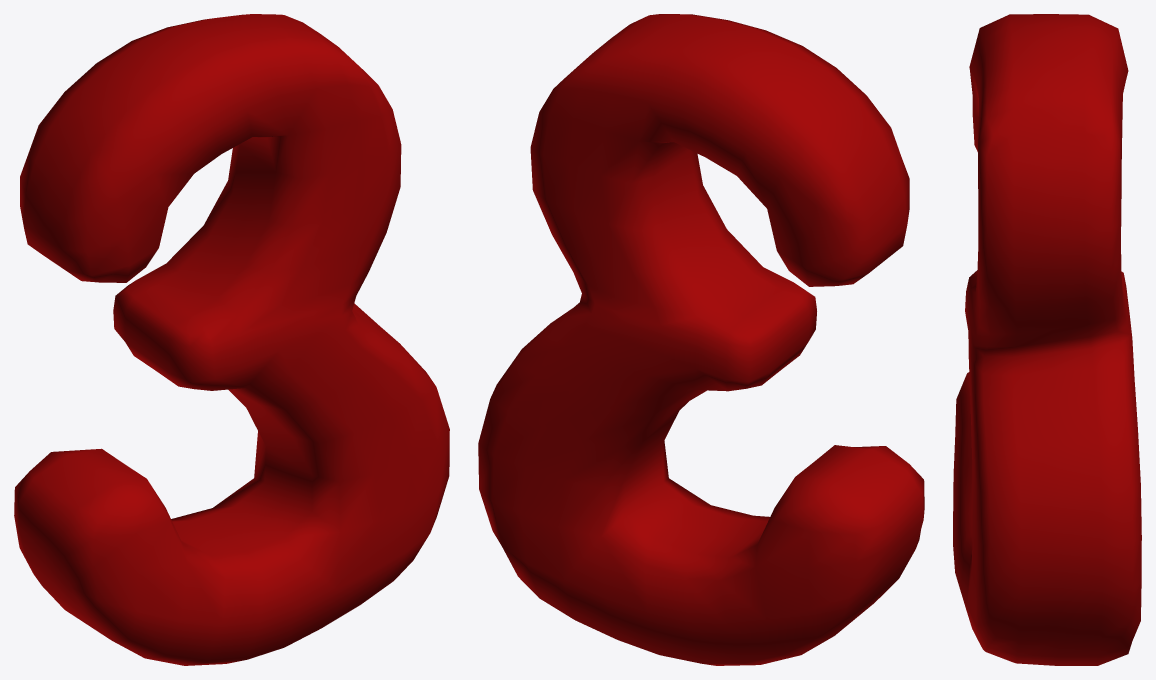
Rendered from mod_no3_v1.fbx.
The picture shows the model from 3 angles, left to right: view 1: azimuth 30°, elevation 25°; view 2: azimuth 150°, elevation 25°; view 3: azimuth 270°, elevation 25°; orthographic projection. The views are drawn at different scales.
Visible parts, largest first — view 1: pCube8; view 2: pCube8; view 3: pCube8.
Part boxes in pixels (x1,y1,x2,y2): pCube8: (14, 14, 449, 665); pCube8: (478, 14, 924, 665); pCube8: (953, 14, 1141, 665).
Size of the model in its own units: 0.3299 by 0.4926 by 0.1405.
